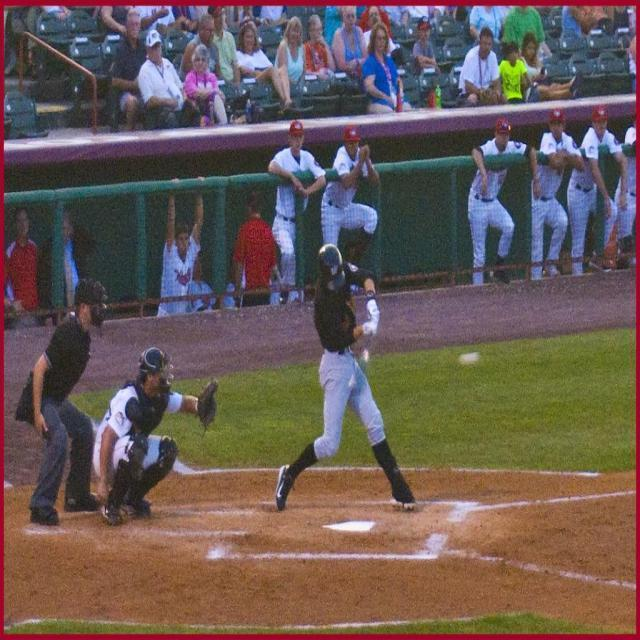ball: (458, 352, 484, 364)
bat: (347, 334, 375, 396)
